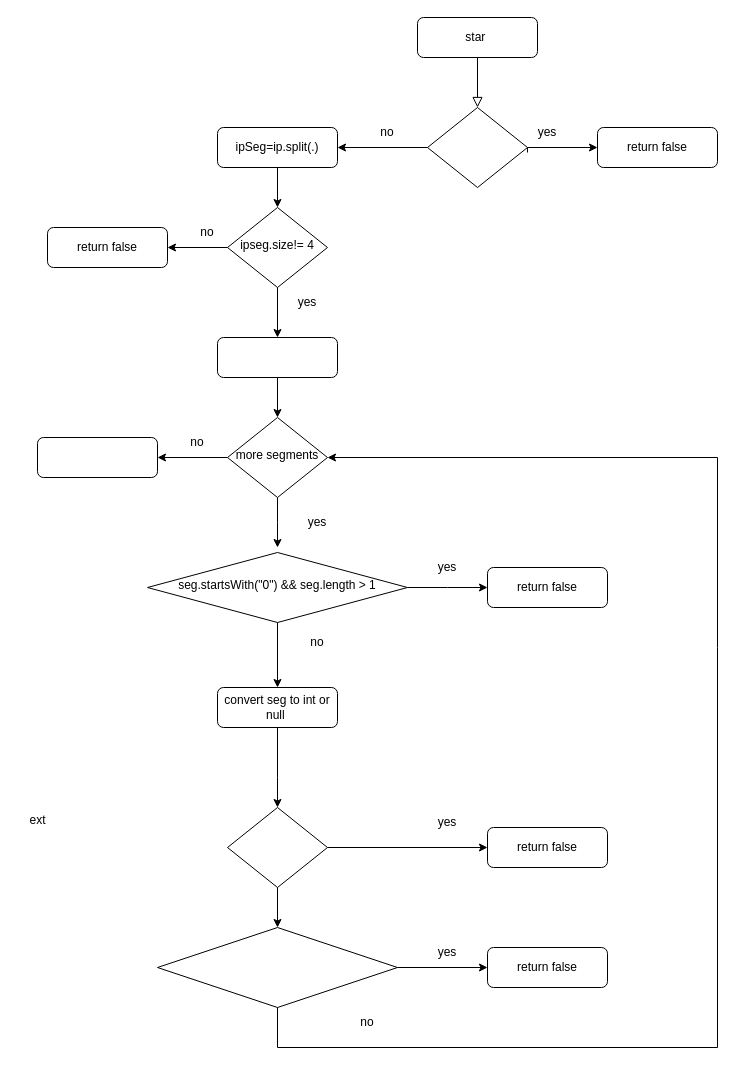
Image size: 743x1073. Some labels were removed from this diagram. Each missing label, with the box of its shape:
ip.isEmpty(): (426, 106, 528, 188)
loop through segments: (216, 336, 338, 378)
return true: (36, 436, 158, 478)
seg == null: (226, 806, 328, 888)
segInteger <0 || segInteger >255: (156, 926, 398, 1008)
